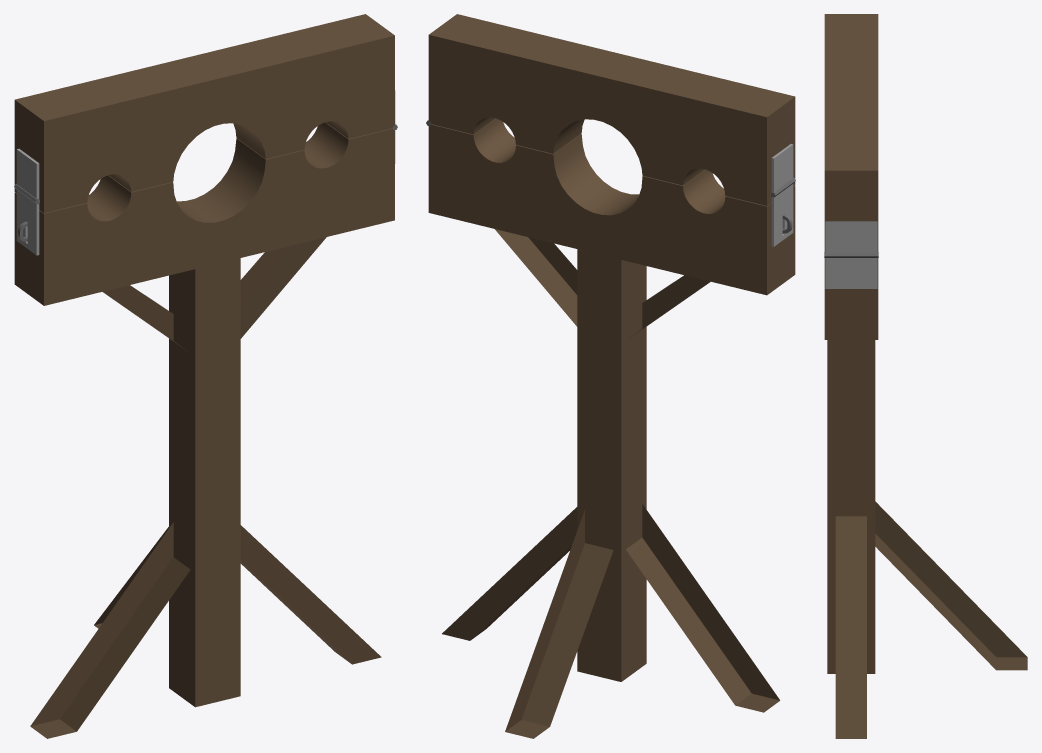
File: Pilory.glb
3 renders of one model, left to right at view 1: azimuth 30°, elevation 25°; view 2: azimuth 150°, elevation 25°; view 3: azimuth 270°, elevation 25°, orthographic. The views are drawn at different scales.
Parts seen in each view (by area): view 1: torture_device_014; view 2: torture_device_014; view 3: torture_device_014.
Boxes of the visible parts, x1,y1,x2,y2 form: torture_device_014: (14, 14, 397, 738); torture_device_014: (426, 14, 795, 738); torture_device_014: (824, 14, 1027, 738).
Bounding box in the file's own units: 0.9304 × 1.52 × 0.4915.
